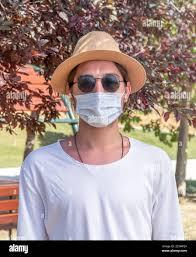cap: (33, 12, 162, 142)
mask: (73, 86, 127, 135)
sunglasses: (71, 69, 128, 94)
